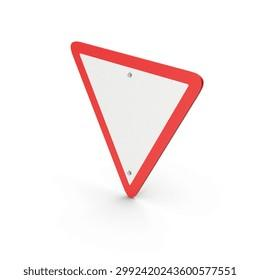Give Way: (62, 25, 211, 209)
